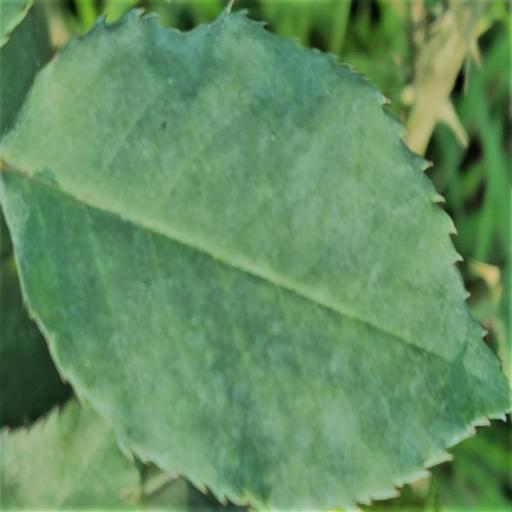healthy_leaf: (0, 11, 511, 509)
